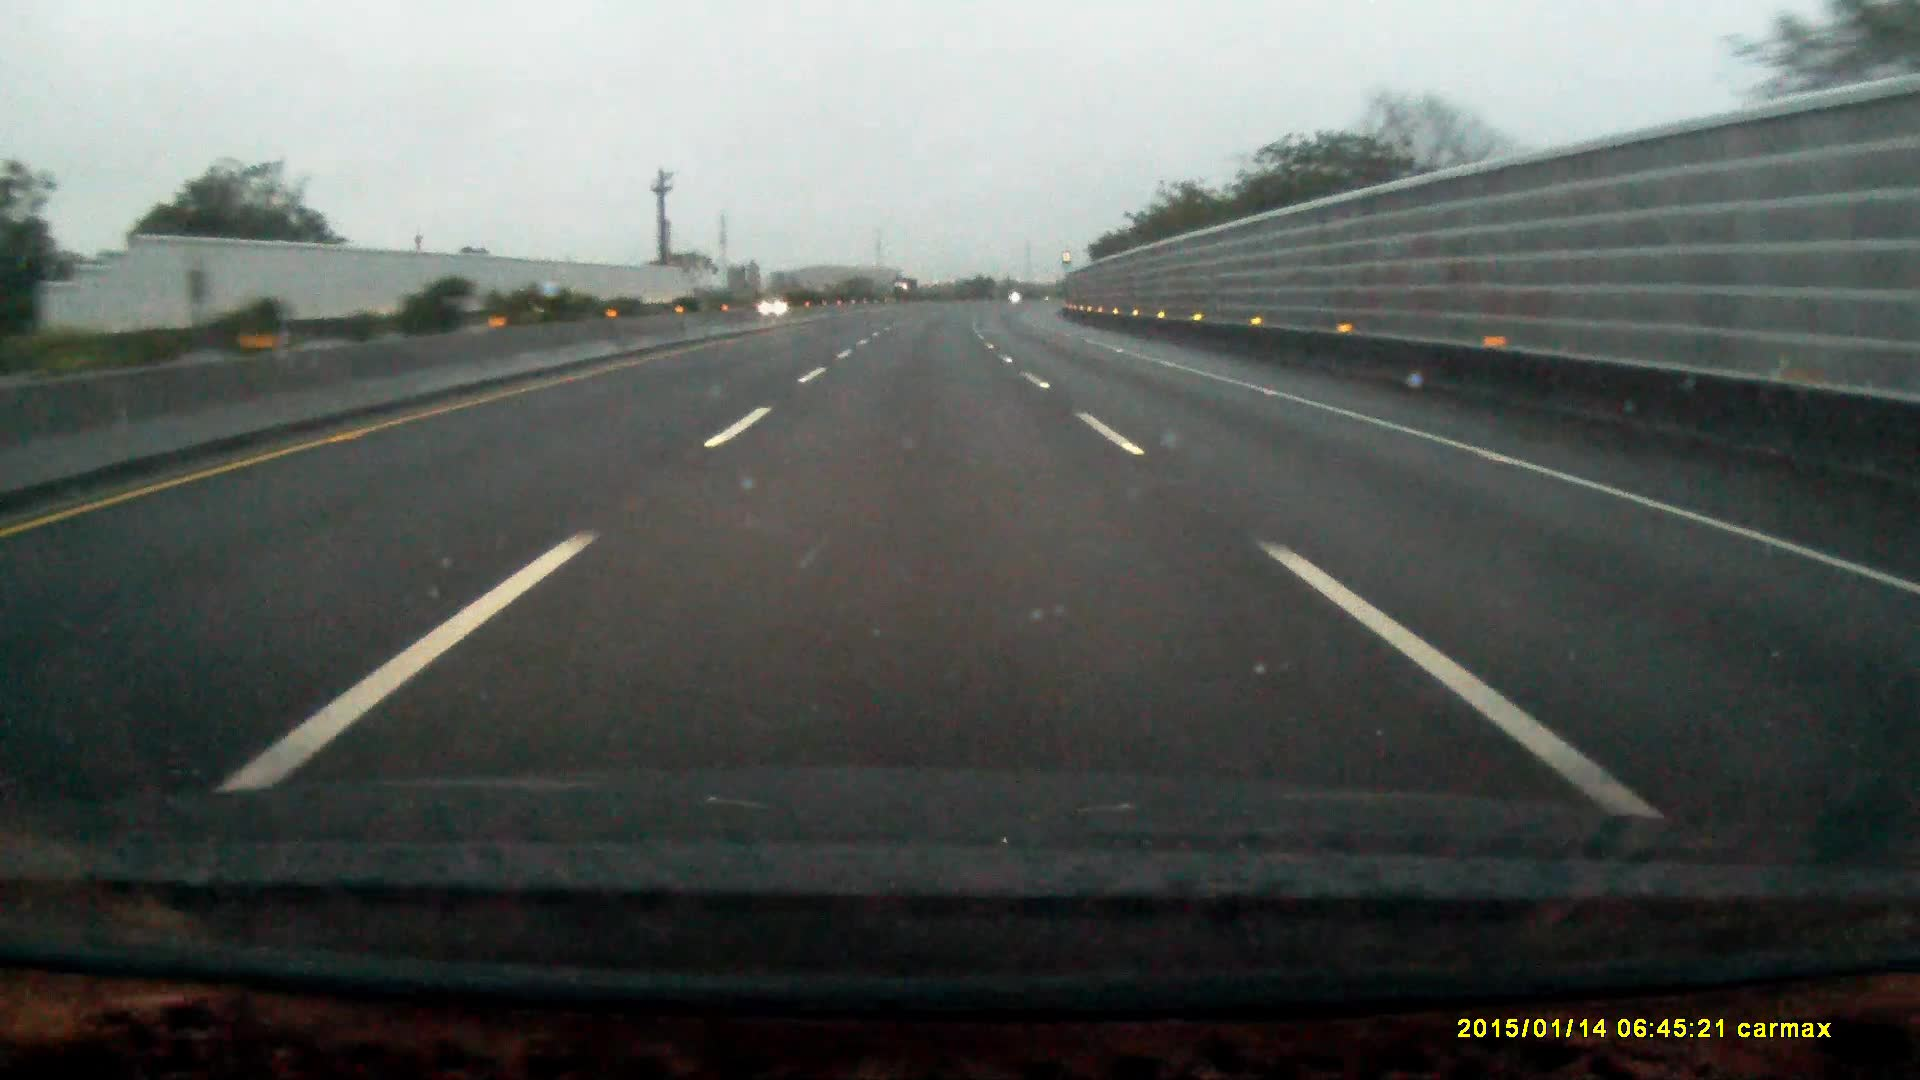vehicle: (893, 276, 919, 299)
